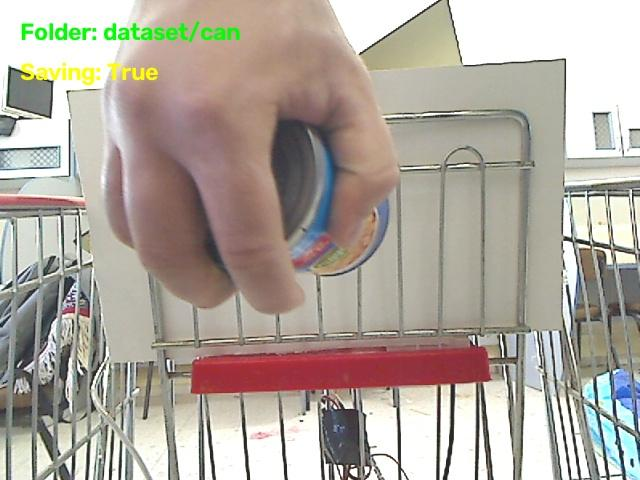can: (272, 121, 388, 275)
